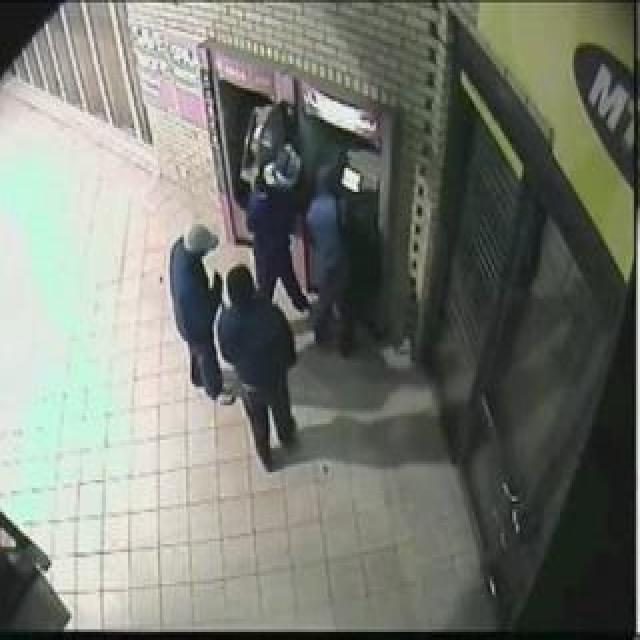thief: (172, 160, 346, 378)
